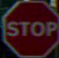Stop: (4, 4, 55, 50)
